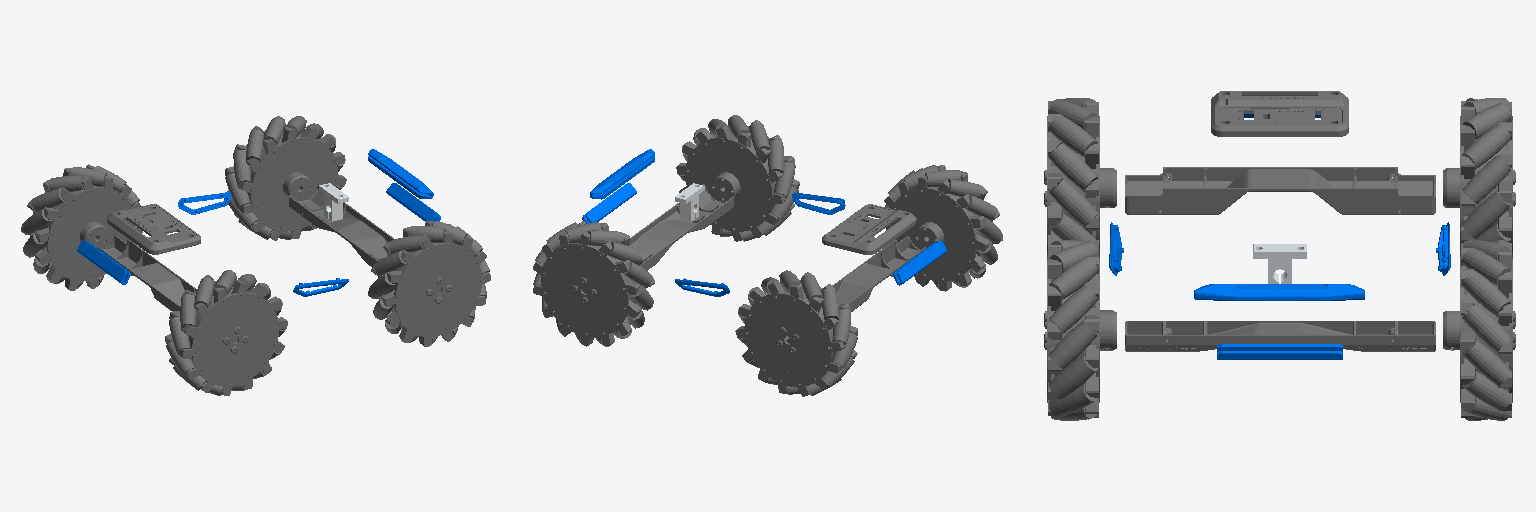
robot.urdf — urdf_mark2_mcnm:
<?xml version="1.0" encoding="utf-8"?>
<!-- This URDF was automatically created by SolidWorks to URDF Exporter! Originally created by [author] ([email redacted]) 
     Commit Version: 1.6.0-4-g7f85cfe  Build Version: 1.6.7995.38578
     For more information, please see http://wiki.ros.org/sw_urdf_exporter -->
<robot
  name="urdf_mark2_mcnm">
  <link
    name="base_link">
    <inertial>
      <origin
        xyz="0.09975 -4.0621E-17 0.11305"
        rpy="0 0 0" />
      <mass
        value="0.023381" />
      <inertia
        ixx="4.0829E-06"
        ixy="-5.2777E-22"
        ixz="-4.9533E-22"
        iyy="2.8092E-06"
        iyz="1.835E-23"
        izz="2.0585E-06" />
    </inertial>
    <visual>
      <origin
        xyz="0 0 0"
        rpy="0 0 0" />
      <geometry>
        <mesh
          filename="package://xpkg_urdf_mark2_mcnm/meshes/base_link.STL" />
      </geometry>
      <material
        name="">
        <color
          rgba="0.89804 0.91765 0.92941 1" />
      </material>
    </visual>
    <collision>
      <origin
        xyz="0 0 0"
        rpy="0 0 0" />
      <geometry>
        <mesh
          filename="package://xpkg_urdf_mark2_mcnm/meshes/base_link.STL" />
      </geometry>
    </collision>
  </link>
  <link
    name="Blue3DPrint_Link">
    <inertial>
      <origin
        xyz="0.075679 -8.7517E-05 0.10625"
        rpy="0 0 0" />
      <mass
        value="0.034868" />
      <inertia
        ixx="1.8414E-05"
        ixy="2.9791E-13"
        ixz="5.0313E-09"
        iyy="2.5297E-06"
        iyz="-1.5288E-13"
        izz="1.9922E-05" />
    </inertial>
    <visual>
      <origin
        xyz="0 0 0"
        rpy="0 0 0" />
      <geometry>
        <mesh
          filename="package://xpkg_urdf_mark2_mcnm/meshes/Blue3DPrint_Link.STL" />
      </geometry>
      <material
        name="">
        <color
          rgba="0 0.50196 1 1" />
      </material>
    </visual>
    <collision>
      <origin
        xyz="0 0 0"
        rpy="0 0 0" />
      <geometry>
        <mesh
          filename="package://xpkg_urdf_mark2_mcnm/meshes/Blue3DPrint_Link.STL" />
      </geometry>
    </collision>
  </link>
  <joint
    name="Blue3DPrint_joint"
    type="continuous">
    <origin
      xyz="0 0 0"
      rpy="0 0 0" />
    <parent
      link="base_link" />
    <child
      link="Blue3DPrint_Link" />
    <axis
      xyz="0 0 -1" />
  </joint>
  <link
    name="Black3DPrint_Link">
    <inertial>
      <origin
        xyz="-0.021193 0.00031099 0.072553"
        rpy="0 0 0" />
      <mass
        value="0.14703" />
      <inertia
        ixx="0.00070598"
        ixy="-8.0064E-09"
        ixz="-5.1007E-07"
        iyy="4.0165E-05"
        iyz="1.626E-08"
        izz="0.0007347" />
    </inertial>
    <visual>
      <origin
        xyz="0 0 0"
        rpy="0 0 0" />
      <geometry>
        <mesh
          filename="package://xpkg_urdf_mark2_mcnm/meshes/Black3DPrint_Link.STL" />
      </geometry>
      <material
        name="">
        <color
          rgba="0.50196 0.50196 0.50196 1" />
      </material>
    </visual>
    <collision>
      <origin
        xyz="0 0 0"
        rpy="0 0 0" />
      <geometry>
        <mesh
          filename="package://xpkg_urdf_mark2_mcnm/meshes/Black3DPrint_Link.STL" />
      </geometry>
    </collision>
  </link>
  <joint
    name="Black3DPrint_joint"
    type="continuous">
    <origin
      xyz="0 0 0"
      rpy="0 0 0" />
    <parent
      link="base_link" />
    <child
      link="Black3DPrint_Link" />
    <axis
      xyz="0 0 -1" />
  </joint>
  <link
    name="Body_Link">
    <inertial>
      <origin
        xyz="0.013835 -0.00071594 0.10917"
        rpy="0 0 0" />
      <mass
        value="2.9519" />
      <inertia
        ixx="0.018724"
        ixy="7.2862E-06"
        ixz="0.00065378"
        iyy="0.021995"
        iyz="3.087E-07"
        izz="0.039331" />
    </inertial>
    <visual>
      <origin
        xyz="0 0 0"
        rpy="0 0 0" />
      <geometry>
        <mesh
          filename="package://xpkg_urdf_mark2_mcnm/meshes/Body_Link.STL" />
      </geometry>
      <material
        name="">
        <color
          rgba="0.8 0.8 0.8 1" />
      </material>
    </visual>
    <collision>
      <origin
        xyz="0 0 0"
        rpy="0 0 0" />
      <geometry>
        <mesh
          filename="package://xpkg_urdf_mark2_mcnm/meshes/Body_Link.STL" />
      </geometry>
    </collision>
  </link>
  <joint
    name="Body_joint"
    type="continuous">
    <origin
      xyz="0 0 0"
      rpy="0 0 0" />
    <parent
      link="base_link" />
    <child
      link="Body_Link" />
    <axis
      xyz="0 0 -1" />
  </joint>
  <link
    name="RightFrontWheel_Link">
    <inertial>
      <origin
        xyz="-0.00014504 0.0016618 3.2446E-05"
        rpy="0 0 0" />
      <mass
        value="0.38714" />
      <inertia
        ixx="0.00053057"
        ixy="1.2493E-10"
        ixz="2.8051E-10"
        iyy="0.00094936"
        iyz="4.9921E-09"
        izz="0.00053058" />
    </inertial>
    <visual>
      <origin
        xyz="0 0 0"
        rpy="0 0 0" />
      <geometry>
        <mesh
          filename="package://xpkg_urdf_mark2_mcnm/meshes/RightFrontWheel_Link.STL" />
      </geometry>
      <material
        name="">
        <color
          rgba="0.5 0.5 0.5 1" />
      </material>
    </visual>
    <collision>
      <origin
        xyz="0 0 0"
        rpy="0 0 0" />
      <geometry>
        <mesh
          filename="package://xpkg_urdf_mark2_mcnm/meshes/RightFrontWheel_Link.STL" />
      </geometry>
    </collision>
  </link>
  <joint
    name="RightFrontWheel_joint"
    type="continuous">
    <origin
      xyz="0.1304 -0.15998 0.07"
      rpy="0 0 0" />
    <parent
      link="base_link" />
    <child
      link="RightFrontWheel_Link" />
    <axis
      xyz="0 1 0" />
  </joint>
  <link
    name="RightBackWheel_Link">
    <inertial>
      <origin
        xyz="4.4773E-06 0.0016363 3.2165E-05"
        rpy="0 0 0" />
      <mass
        value="0.3869" />
      <inertia
        ixx="0.00053024"
        ixy="6.9281E-10"
        ixz="1.5953E-09"
        iyy="0.00094873"
        iyz="4.9447E-09"
        izz="0.00053025" />
    </inertial>
    <visual>
      <origin
        xyz="0 0 0"
        rpy="0 0 0" />
      <geometry>
        <mesh
          filename="package://xpkg_urdf_mark2_mcnm/meshes/RightBackWheel_Link.STL" />
      </geometry>
      <material
        name="">
        <color
          rgba="0.5 0.5 0.5 1" />
      </material>
    </visual>
    <collision>
      <origin
        xyz="0 0 0"
        rpy="0 0 0" />
      <geometry>
        <mesh
          filename="package://xpkg_urdf_mark2_mcnm/meshes/RightBackWheel_Link.STL" />
      </geometry>
    </collision>
  </link>
  <joint
    name="RightBackWheel"
    type="continuous">
    <origin
      xyz="-0.13025 -0.15995 0.07"
      rpy="0 0 0" />
    <parent
      link="base_link" />
    <child
      link="RightBackWheel_Link" />
    <axis
      xyz="0 1 0" />
  </joint>
  <link
    name="LeftFrontWheel_Link">
    <inertial>
      <origin
        xyz="1.1748E-06 -0.0016363 3.2454E-05"
        rpy="0 0 0" />
      <mass
        value="0.3869" />
      <inertia
        ixx="0.00053024"
        ixy="-1.7617E-10"
        ixz="4.2826E-10"
        iyy="0.00094873"
        iyz="-4.9899E-09"
        izz="0.00053025" />
    </inertial>
    <visual>
      <origin
        xyz="0 0 0"
        rpy="0 0 0" />
      <geometry>
        <mesh
          filename="package://xpkg_urdf_mark2_mcnm/meshes/LeftFrontWheel_Link.STL" />
      </geometry>
      <material
        name="">
        <color
          rgba="0.5 0.5 0.5 1" />
      </material>
    </visual>
    <collision>
      <origin
        xyz="0 0 0"
        rpy="0 0 0" />
      <geometry>
        <mesh
          filename="package://xpkg_urdf_mark2_mcnm/meshes/LeftFrontWheel_Link.STL" />
      </geometry>
    </collision>
  </link>
  <joint
    name="LeftFrontWheel_joint"
    type="continuous">
    <origin
      xyz="0.13025 0.15995 0.07"
      rpy="0 0 0" />
    <parent
      link="base_link" />
    <child
      link="LeftFrontWheel_Link" />
    <axis
      xyz="0 -1 0" />
  </joint>
  <link
    name="LeftBackWheel_Link">
    <inertial>
      <origin
        xyz="0 0 0"
        rpy="0 0 0" />
      <mass
        value="0" />
      <inertia
        ixx="0"
        ixy="0"
        ixz="0"
        iyy="0"
        iyz="0"
        izz="0" />
    </inertial>
    <visual>
      <origin
        xyz="0 0 0"
        rpy="0 0 0" />
      <geometry>
        <mesh
          filename="package://xpkg_urdf_mark2_mcnm/meshes/LeftBackWheel_Link.STL" />
      </geometry>
      <material
        name="">
        <color
          rgba="0.5 0.5 0.5 1" />
      </material>
    </visual>
    <collision>
      <origin
        xyz="0 0 0"
        rpy="0 0 0" />
      <geometry>
        <mesh
          filename="package://xpkg_urdf_mark2_mcnm/meshes/LeftBackWheel_Link.STL" />
      </geometry>
    </collision>
  </link>
  <joint
    name="LeftBackWheel_joint"
    type="continuous">
    <origin
      xyz="-0.13038 0.15995 0.07"
      rpy="0 0 0" />
    <parent
      link="base_link" />
    <child
      link="LeftBackWheel_Link" />
    <axis
      xyz="0 -1 0" />
  </joint>
</robot>

--- What the picture shows (computed from the rendered views, not written in the file) ---
3 views of the same robot in one strip: view 1: azimuth 30°, elevation 25°; view 2: azimuth 150°, elevation 25°; view 3: azimuth 270°, elevation 25° (orthographic).
Robot: urdf_mark2_mcnm — 8 links, 7 joints (7 continuous); root link base_link; default pose: every joint at zero.
Visible links, largest first — view 1: RightBackWheel_Link, RightFrontWheel_Link, LeftFrontWheel_Link, LeftBackWheel_Link, Black3DPrint_Link, Blue3DPrint_Link, base_link; view 2: LeftFrontWheel_Link, LeftBackWheel_Link, RightFrontWheel_Link, RightBackWheel_Link, Black3DPrint_Link, Blue3DPrint_Link, base_link; view 3: Black3DPrint_Link, LeftFrontWheel_Link, RightFrontWheel_Link, RightBackWheel_Link, LeftBackWheel_Link, Blue3DPrint_Link, base_link.
Boxes of the visible links, bbox=[...] form: RightBackWheel_Link: bbox=[165, 270, 287, 395]; RightFrontWheel_Link: bbox=[368, 220, 490, 346]; LeftFrontWheel_Link: bbox=[225, 116, 346, 240]; LeftBackWheel_Link: bbox=[21, 164, 142, 290]; Black3DPrint_Link: bbox=[98, 184, 394, 310]; Blue3DPrint_Link: bbox=[77, 149, 440, 296]; base_link: bbox=[319, 183, 348, 221]; LeftFrontWheel_Link: bbox=[533, 221, 654, 346]; LeftBackWheel_Link: bbox=[735, 270, 857, 396]; RightFrontWheel_Link: bbox=[676, 115, 799, 241]; RightBackWheel_Link: bbox=[884, 165, 1002, 291]; Black3DPrint_Link: bbox=[628, 184, 925, 311]; Blue3DPrint_Link: bbox=[582, 149, 946, 296]; base_link: bbox=[675, 183, 704, 221]; Black3DPrint_Link: bbox=[1125, 91, 1435, 351]; LeftFrontWheel_Link: bbox=[1443, 240, 1515, 420]; RightFrontWheel_Link: bbox=[1044, 240, 1116, 420]; RightBackWheel_Link: bbox=[1044, 98, 1116, 257]; LeftBackWheel_Link: bbox=[1443, 98, 1515, 257]; Blue3DPrint_Link: bbox=[1109, 114, 1450, 359]; base_link: bbox=[1253, 244, 1306, 283].
Size in the robot's own frame: 0.412 by 0.3646 by 0.1406 metres.
Meshes: 8 distinct files referenced, 7 mesh visuals loaded (7 binary STL); not drawn: 1 (file found but could not be loaded).